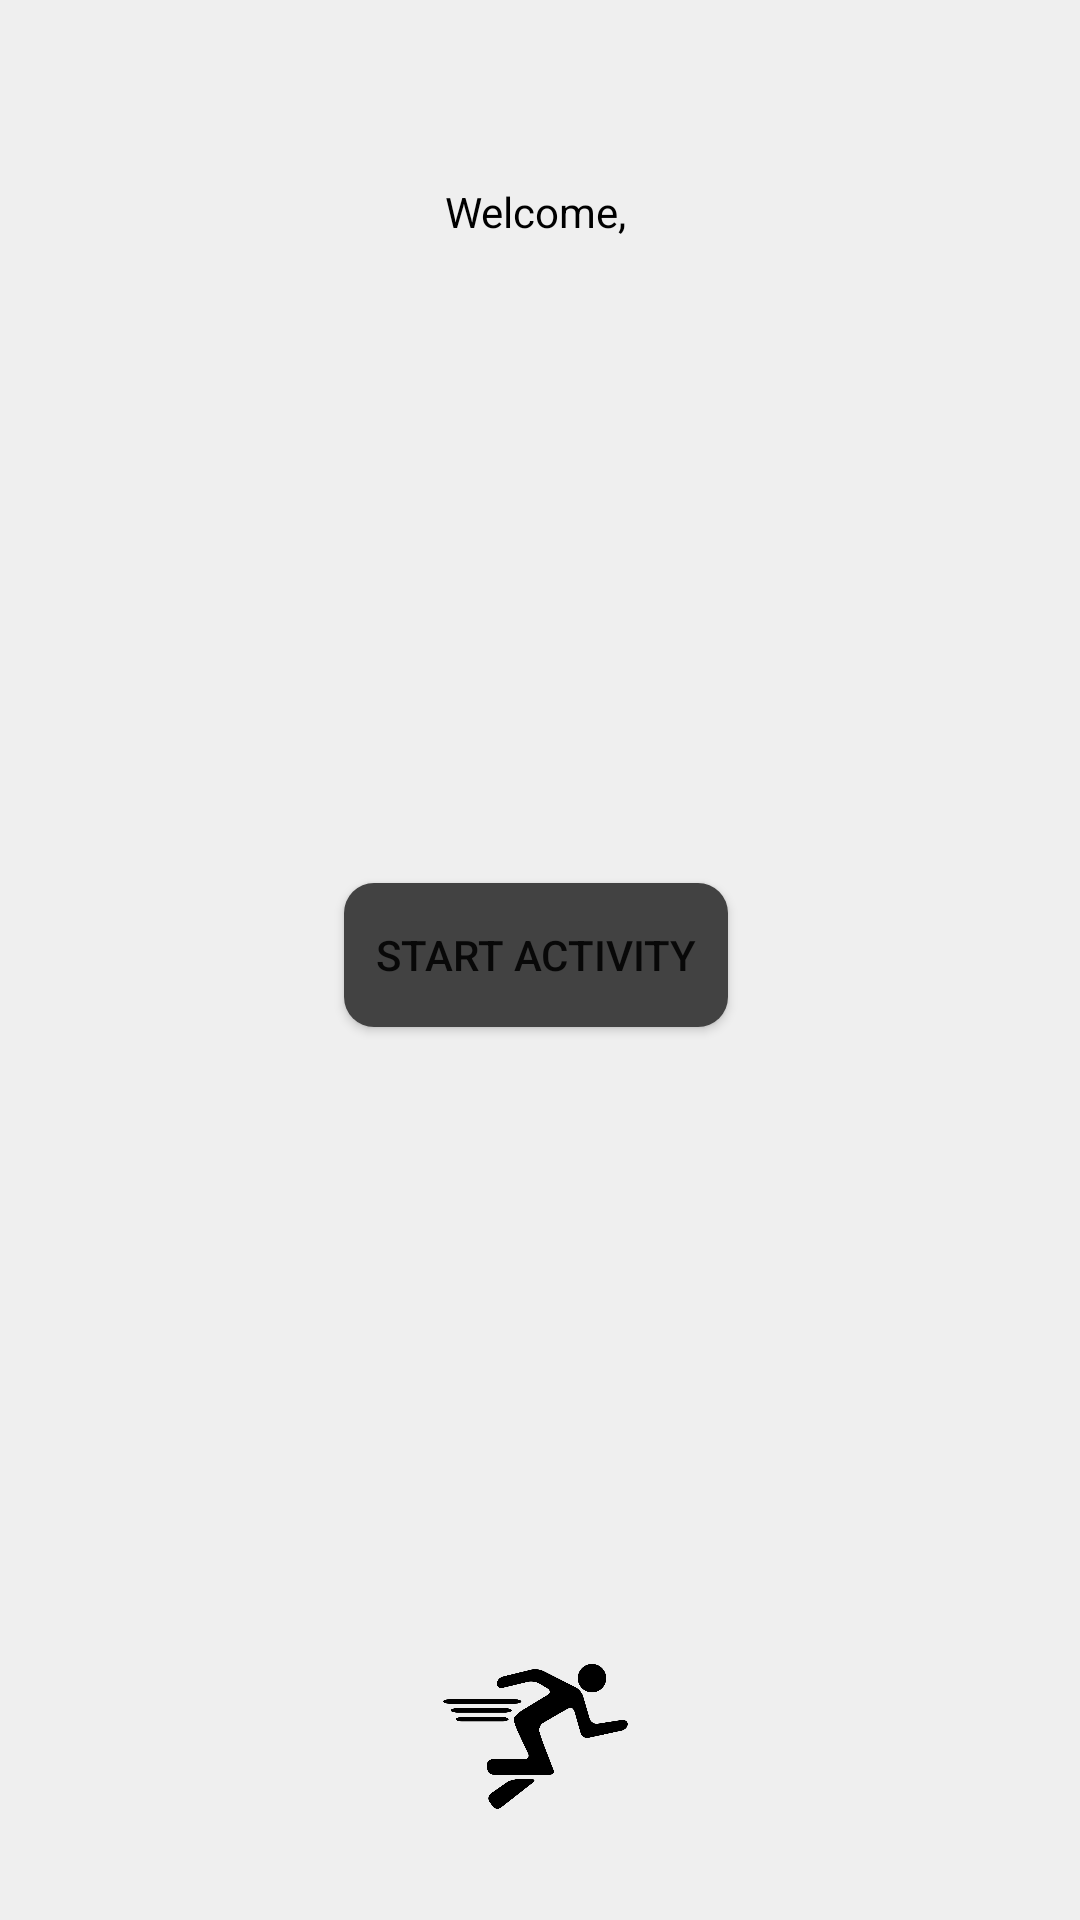

Locate icon controls on the screen. Image size 1080px x 1920px, boxes as (x1, y1, x2, y2).
running: (443, 1664, 628, 1809)
